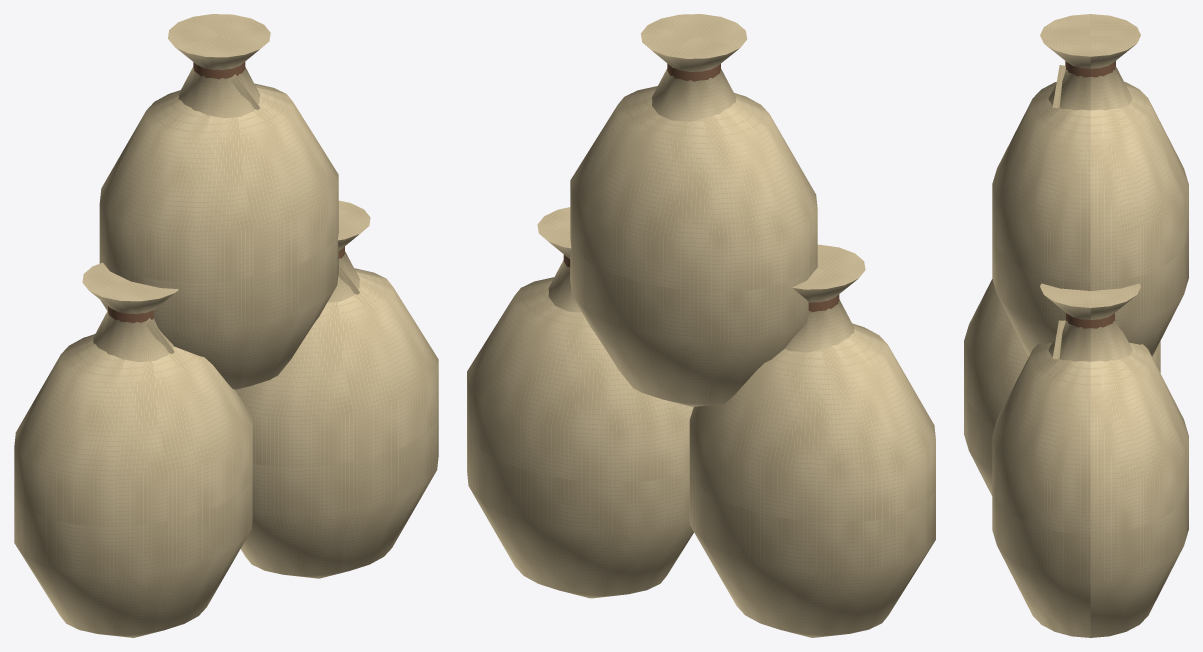
File: Sack_Stack.fbx
3 renders of one model, left to right at view 1: azimuth 30°, elevation 25°; view 2: azimuth 150°, elevation 25°; view 3: azimuth 270°, elevation 25°, orthographic. The views are drawn at different scales.
Parts seen in each view (by area): view 1: Linen grain sack.001, Linen grain sack.003, Linen grain sack.002, Sack tied mouth.003, Sack tied mouth.001, Sack tied mouth.002; view 2: Linen grain sack.003, Linen grain sack.001, Linen grain sack.002, Sack tied mouth.003, Sack tied mouth.001, Sack tied mouth.002; view 3: Linen grain sack.002, Linen grain sack.003, Linen grain sack.001, Sack tied mouth.003, Sack tied mouth.002, Sack mouth binding.003, Sack mouth binding.002.
Part boxes in pixels (x1,y1,x2,y2): Linen grain sack.001: (14,334,253,637); Linen grain sack.003: (99,83,338,389); Linen grain sack.002: (235,268,438,578); Sack tied mouth.003: (168,14,270,118); Sack tied mouth.001: (82,262,178,362); Sack tied mouth.002: (327,200,370,302); Linen grain sack.003: (570,86,817,406); Linen grain sack.001: (689,323,935,637); Linen grain sack.002: (467,277,693,598); Sack tied mouth.003: (641,14,747,121); Sack tied mouth.001: (784,244,865,352); Sack tied mouth.002: (537,207,581,312); Linen grain sack.002: (992,342,1188,637); Linen grain sack.003: (992,81,1188,356); Linen grain sack.001: (964,279,1160,495); Sack tied mouth.003: (1040,14,1140,110); Sack tied mouth.002: (1040,283,1140,361); Sack mouth binding.003: (1065,61,1115,77); Sack mouth binding.002: (1066,313,1114,328).
Size of the model in its own units: 167 by 217 by 80.
